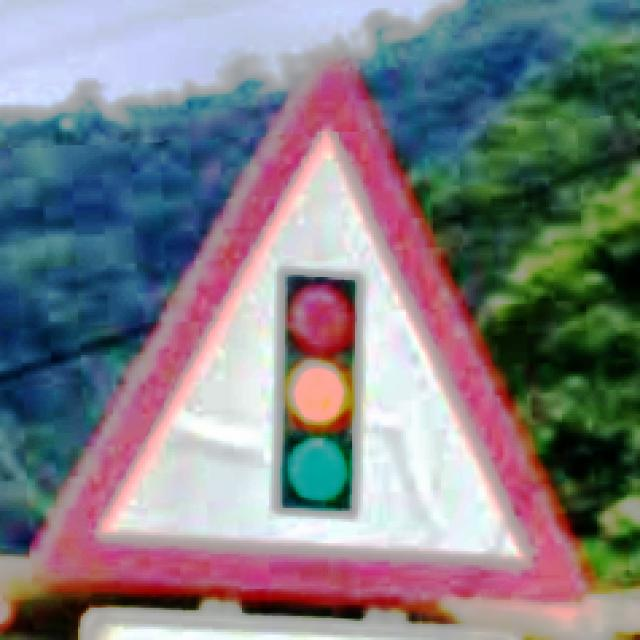signalahead: (28, 54, 589, 609)
